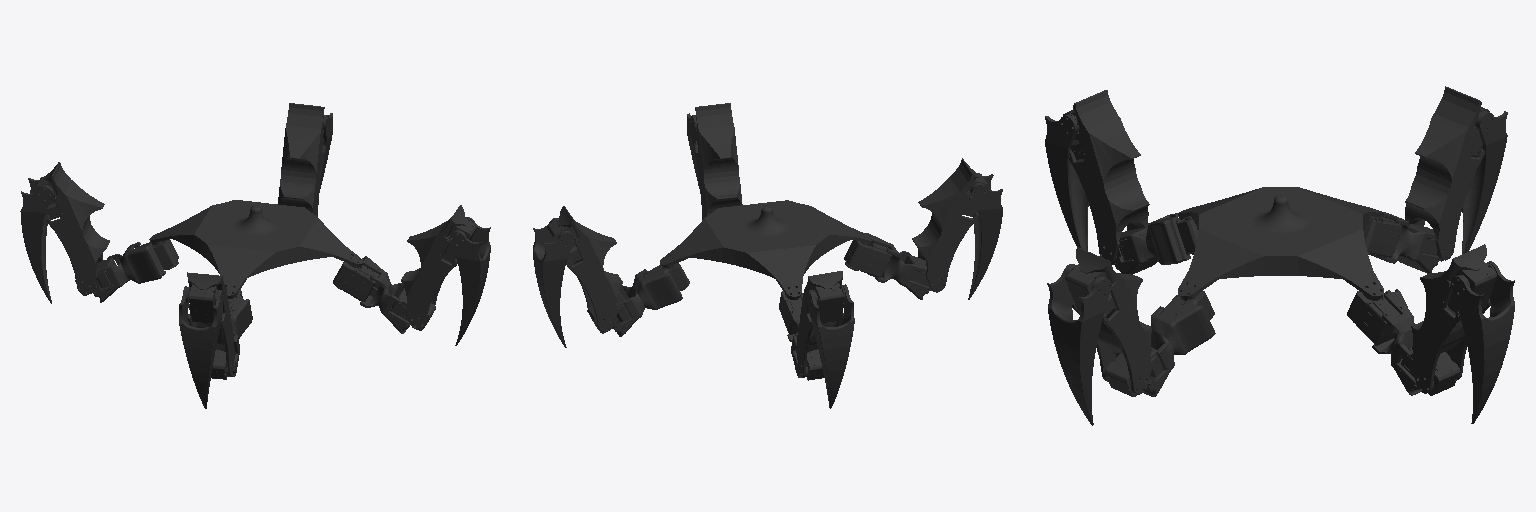
URDF robot description (Bot1):
<?xml version="1.0" ?>
<!-- Generated using onshape-to-robot -->
<!-- Onshape https://cad.onshape.com/documents/94b6ca4043d8b7dadf18169a/w/f21a9ff9413a5e9f1a679a27/e/2a732876cea761500fc01163 -->
<robot name="Bot1">
  <!-- Link part_1 -->
  <link name="part_1">
    <inertial>
      <origin xyz="0.0209601 0.0241499 0.0199273" rpy="0 0 0"/>
      <mass value="0.552084"/>
      <inertia ixx="0.0010312" ixy="-5.64816e-14" ixz="-3.97117e-12" iyy="0.0010312" iyz="-1.0241e-10" izz="0.00201256"/>
    </inertial>
    <!-- Part part_1 -->
    <visual>
      <origin xyz="-0.0290399 -0.0153501 0.0106225" rpy="1.04355e-07 -4.04659e-09 2.7083e-08"/>
      <geometry>
        <mesh filename="package://assets/part_1.stl"/>
      </geometry>
      <material name="part_1_material">
        <color rgba="0.25098 0.25098 0.25098 1"/>
      </material>
    </visual>
    <collision>
      <origin xyz="-0.0290399 -0.0153501 0.0106225" rpy="1.04355e-07 -4.04659e-09 2.7083e-08"/>
      <geometry>
        <mesh filename="package://assets/part_1.stl"/>
      </geometry>
    </collision>
  </link>
  <!-- Link part_1_2 -->
  <link name="part_1_2">
    <inertial>
      <origin xyz="0.0508216 0.00300079 -0.0201979" rpy="0 0 0"/>
      <mass value="0.139372"/>
      <inertia ixx="2.83594e-05" ixy="4.47367e-06" ixz="4.47438e-06" iyy="0.000186866" iyz="-9.10127e-08" izz="0.000186863"/>
    </inertial>
    <!-- Part part_1_2 -->
    <visual>
      <origin xyz="-0.595484 -1.2957 0.863499" rpy="3.14159 -7.06969e-15 1.02625e-16"/>
      <geometry>
        <mesh filename="package://assets/part_1__2.stl"/>
      </geometry>
      <material name="part_1_2_material">
        <color rgba="0.25098 0.25098 0.25098 1"/>
      </material>
    </visual>
    <collision>
      <origin xyz="-0.595484 -1.2957 0.863499" rpy="3.14159 -7.06969e-15 1.02625e-16"/>
      <geometry>
        <mesh filename="package://assets/part_1__2.stl"/>
      </geometry>
    </collision>
  </link>
  <!-- Link part_1_3 -->
  <link name="part_1_3">
    <inertial>
      <origin xyz="0.0786937 -0.0129147 0.0184042" rpy="0 0 0"/>
      <mass value="0.191635"/>
      <inertia ixx="5.4291e-05" ixy="-1.18698e-05" ixz="5.77448e-07" iyy="0.000252178" iyz="2.3663e-07" izz="0.000249914"/>
    </inertial>
    <!-- Part part_1_3 -->
    <visual>
      <origin xyz="-0.600864 0.882908 1.34578" rpy="3.14159 -6.17975e-17 -5.06224e-17"/>
      <geometry>
        <mesh filename="package://assets/part_1__3.stl"/>
      </geometry>
      <material name="part_1_3_material">
        <color rgba="0.25098 0.25098 0.25098 1"/>
      </material>
    </visual>
    <collision>
      <origin xyz="-0.600864 0.882908 1.34578" rpy="3.14159 -6.17975e-17 -5.06224e-17"/>
      <geometry>
        <mesh filename="package://assets/part_1__3.stl"/>
      </geometry>
    </collision>
  </link>
  <!-- Link part_1_4 -->
  <link name="part_1_4">
    <inertial>
      <origin xyz="-0.0423193 0.0357184 0.0189022" rpy="0 0 0"/>
      <mass value="0.0518909"/>
      <inertia ixx="2.02819e-05" ixy="1.67182e-05" ixz="-1.79305e-09" iyy="5.21248e-05" iyz="1.0553e-09" izz="5.27497e-05"/>
    </inertial>
    <!-- Part part_1_4 -->
    <visual>
      <origin xyz="-2.77556e-17 -1.38778e-16 -0.004" rpy="3.75243e-15 -7.93323e-17 -1.93732"/>
      <geometry>
        <mesh filename="package://assets/part_1__4.stl"/>
      </geometry>
      <material name="part_1_4_material">
        <color rgba="0.25098 0.25098 0.25098 1"/>
      </material>
    </visual>
    <collision>
      <origin xyz="-2.77556e-17 -1.38778e-16 -0.004" rpy="3.75243e-15 -7.93323e-17 -1.93732"/>
      <geometry>
        <mesh filename="package://assets/part_1__4.stl"/>
      </geometry>
    </collision>
  </link>
  <!-- Joint from part_1_3 to part_1_4 -->
  <joint name="kn_yaw_1" type="revolute">
    <origin xyz="0.1253 9.71445e-16 -0.0007" rpy="1.08495e-16 -6.17975e-17 -5.06224e-17"/>
    <parent link="part_1_3"/>
    <child link="part_1_4"/>
    <axis xyz="0 0 1"/>
    <limit effort="10" velocity="10" lower="-1.8675" upper="0"/>
  </joint>
  <!-- Joint from part_1_2 to part_1_3 -->
  <joint name="sh_yaw_1" type="revolute">
    <origin xyz="0.1016 -0.0172 -0.0172" rpy="1.5708 -1.52128 3.14159"/>
    <parent link="part_1_2"/>
    <child link="part_1_3"/>
    <axis xyz="0 0 1"/>
    <limit effort="10" velocity="10" lower="-0.0202957" upper="2.99912"/>
  </joint>
  <!-- Joint from part_1 to part_1_2 -->
  <joint name="sh_roll_1" type="revolute">
    <origin xyz="-0.063914 -0.0607244 -0.00112728" rpy="0.0113433 0.459272 -2.33061"/>
    <parent link="part_1"/>
    <child link="part_1_2"/>
    <axis xyz="0 0 1"/>
    <limit effort="10" velocity="10" lower="-2.22431" upper="2.10411"/>
  </joint>
  <!-- Link part_1_5 -->
  <link name="part_1_5">
    <inertial>
      <origin xyz="0.0508216 0.00300079 -0.0201979" rpy="0 0 0"/>
      <mass value="0.139372"/>
      <inertia ixx="2.83594e-05" ixy="4.47367e-06" ixz="4.47438e-06" iyy="0.000186866" iyz="-9.10127e-08" izz="0.000186863"/>
    </inertial>
    <!-- Part part_1_5 -->
    <visual>
      <origin xyz="-0.595484 -1.2957 0.863499" rpy="3.14159 -6.99933e-15 -3.33598e-17"/>
      <geometry>
        <mesh filename="package://assets/part_1__2.stl"/>
      </geometry>
      <material name="part_1_5_material">
        <color rgba="0.25098 0.25098 0.25098 1"/>
      </material>
    </visual>
    <collision>
      <origin xyz="-0.595484 -1.2957 0.863499" rpy="3.14159 -6.99933e-15 -3.33598e-17"/>
      <geometry>
        <mesh filename="package://assets/part_1__2.stl"/>
      </geometry>
    </collision>
  </link>
  <!-- Link part_1_6 -->
  <link name="part_1_6">
    <inertial>
      <origin xyz="0.0786937 -0.0129147 0.0184042" rpy="0 0 0"/>
      <mass value="0.191635"/>
      <inertia ixx="5.4291e-05" ixy="-1.18698e-05" ixz="5.77448e-07" iyy="0.000252178" iyz="2.3663e-07" izz="0.000249914"/>
    </inertial>
    <!-- Part part_1_6 -->
    <visual>
      <origin xyz="-0.600864 0.882908 1.34578" rpy="3.14159 9.14324e-18 -6.1058e-18"/>
      <geometry>
        <mesh filename="package://assets/part_1__3.stl"/>
      </geometry>
      <material name="part_1_6_material">
        <color rgba="0.25098 0.25098 0.25098 1"/>
      </material>
    </visual>
    <collision>
      <origin xyz="-0.600864 0.882908 1.34578" rpy="3.14159 9.14324e-18 -6.1058e-18"/>
      <geometry>
        <mesh filename="package://assets/part_1__3.stl"/>
      </geometry>
    </collision>
  </link>
  <!-- Link part_1_7 -->
  <link name="part_1_7">
    <inertial>
      <origin xyz="-0.0181801 -0.0523088 0.0189022" rpy="0 0 0"/>
      <mass value="0.0518909"/>
      <inertia ixx="5.9222e-05" ixy="-1.77049e-06" ixz="-3.42637e-10" iyy="1.31847e-05" iyz="-2.05214e-09" izz="5.27497e-05"/>
    </inertial>
    <!-- Part part_1_7 -->
    <visual>
      <origin xyz="0 0 -0.004" rpy="1.03918e-18 -3.41966e-17 -8.52784e-18"/>
      <geometry>
        <mesh filename="package://assets/part_1__4.stl"/>
      </geometry>
      <material name="part_1_7_material">
        <color rgba="0.25098 0.25098 0.25098 1"/>
      </material>
    </visual>
    <collision>
      <origin xyz="0 0 -0.004" rpy="1.03918e-18 -3.41966e-17 -8.52784e-18"/>
      <geometry>
        <mesh filename="package://assets/part_1__4.stl"/>
      </geometry>
    </collision>
  </link>
  <!-- Joint from part_1_6 to part_1_7 -->
  <joint name="kn_yaw_2" type="revolute">
    <origin xyz="0.1253 9.99201e-16 -0.0007" rpy="-4.71256e-14 -4.49153e-14 -1.92354"/>
    <parent link="part_1_6"/>
    <child link="part_1_7"/>
    <axis xyz="0 0 1"/>
    <limit effort="10" velocity="10" lower="-1.89874" upper="0.00367303"/>
  </joint>
  <!-- Joint from part_1_5 to part_1_6 -->
  <joint name="sh_yaw_2" type="revolute">
    <origin xyz="0.1016 -0.0172 -0.0172" rpy="1.5708 -1.5189 3.14159"/>
    <parent link="part_1_5"/>
    <child link="part_1_6"/>
    <axis xyz="0 0 1"/>
    <limit effort="10" velocity="10" lower="-0.00046306" upper="3.01728"/>
  </joint>
  <!-- Joint from part_1 to part_1_5 -->
  <joint name="sh_roll_2" type="revolute">
    <origin xyz="0.105834 -0.0607243 -0.00112728" rpy="-0.00584817 0.459368 -0.798588"/>
    <parent link="part_1"/>
    <child link="part_1_5"/>
    <axis xyz="0 0 1"/>
    <limit effort="10" velocity="10" lower="-2.1763" upper="2.12593"/>
  </joint>
  <!-- Link part_1_8 -->
  <link name="part_1_8">
    <inertial>
      <origin xyz="0.030927 0.0404396 -0.0201979" rpy="0 0 0"/>
      <mass value="0.139372"/>
      <inertia ixx="0.000114801" ixy="-7.90532e-05" ixz="2.99178e-06" iyy="0.000100424" iyz="3.3283e-06" izz="0.000186863"/>
    </inertial>
    <!-- Part part_1_8 -->
    <visual>
      <origin xyz="0.592033 -1.29728 0.863499" rpy="3.14159 -7.1865e-15 0.858932"/>
      <geometry>
        <mesh filename="package://assets/part_1__2.stl"/>
      </geometry>
      <material name="part_1_8_material">
        <color rgba="0.25098 0.25098 0.25098 1"/>
      </material>
    </visual>
    <collision>
      <origin xyz="0.592033 -1.29728 0.863499" rpy="3.14159 -7.1865e-15 0.858932"/>
      <geometry>
        <mesh filename="package://assets/part_1__2.stl"/>
      </geometry>
    </collision>
  </link>
  <!-- Link part_1_9 -->
  <link name="part_1_9">
    <inertial>
      <origin xyz="-0.0182232 -0.0776363 0.0184042" rpy="0 0 0"/>
      <mass value="0.191635"/>
      <inertia ixx="0.000252874" ixy="-1.63223e-06" ixz="1.96914e-07" iyy="5.35949e-05" iyz="-5.9217e-07" izz="0.000249914"/>
    </inertial>
    <!-- Part part_1_9 -->
    <visual>
      <origin xyz="0.921634 0.539587 1.34578" rpy="3.14159 3.44615e-15 -1.63868"/>
      <geometry>
        <mesh filename="package://assets/part_1__3.stl"/>
      </geometry>
      <material name="part_1_9_material">
        <color rgba="0.25098 0.25098 0.25098 1"/>
      </material>
    </visual>
    <collision>
      <origin xyz="0.921634 0.539587 1.34578" rpy="3.14159 3.44615e-15 -1.63868"/>
      <geometry>
        <mesh filename="package://assets/part_1__3.stl"/>
      </geometry>
    </collision>
  </link>
  <!-- Link part_1_10 -->
  <link name="part_1_10">
    <inertial>
      <origin xyz="-0.0181801 -0.0523088 0.0189022" rpy="0 0 0"/>
      <mass value="0.0518909"/>
      <inertia ixx="5.9222e-05" ixy="-1.77049e-06" ixz="-3.42637e-10" iyy="1.31847e-05" iyz="-2.05214e-09" izz="5.27497e-05"/>
    </inertial>
    <!-- Part part_1_10 -->
    <visual>
      <origin xyz="0 -1.38778e-17 -0.004" rpy="-1.64693e-18 -3.3924e-17 -4.7432e-18"/>
      <geometry>
        <mesh filename="package://assets/part_1__4.stl"/>
      </geometry>
      <material name="part_1_10_material">
        <color rgba="0.25098 0.25098 0.25098 1"/>
      </material>
    </visual>
    <collision>
      <origin xyz="0 -1.38778e-17 -0.004" rpy="-1.64693e-18 -3.3924e-17 -4.7432e-18"/>
      <geometry>
        <mesh filename="package://assets/part_1__4.stl"/>
      </geometry>
    </collision>
  </link>
  <!-- Joint from part_1_9 to part_1_10 -->
  <joint name="kn_yaw_3" type="revolute">
    <origin xyz="-0.00849973 -0.125011 -0.0007" rpy="-7.507e-16 -4.79564e-15 2.71628"/>
    <parent link="part_1_9"/>
    <child link="part_1_10"/>
    <axis xyz="0 0 1"/>
    <limit effort="10" velocity="10" lower="-1.86497" upper="0.0123759"/>
  </joint>
  <!-- Joint from part_1_8 to part_1_9 -->
  <joint name="sh_yaw_3" type="revolute">
    <origin xyz="0.0793927 0.0656901 -0.0172" rpy="-1.5708 -7.1865e-15 0.858932"/>
    <parent link="part_1_8"/>
    <child link="part_1_9"/>
    <axis xyz="0 0 1"/>
    <limit effort="10" velocity="10" lower="-0.00192597" upper="3.00877"/>
  </joint>
  <!-- Joint from part_1 to part_1_8 -->
  <joint name="sh_roll_3" type="revolute">
    <origin xyz="0.105834 0.109024 -0.00112726" rpy="-0.352958 0.300455 -0.108596"/>
    <parent link="part_1"/>
    <child link="part_1_8"/>
    <axis xyz="0 0 1"/>
    <limit effort="10" velocity="10" lower="-2.22029" upper="2.10813"/>
  </joint>
  <!-- Link part_1_11 -->
  <link name="part_1_11">
    <inertial>
      <origin xyz="0.0508216 0.00300079 -0.0201979" rpy="0 0 0"/>
      <mass value="0.139372"/>
      <inertia ixx="2.83594e-05" ixy="4.47367e-06" ixz="4.47438e-06" iyy="0.000186866" iyz="-9.10127e-08" izz="0.000186863"/>
    </inertial>
    <!-- Part part_1_11 -->
    <visual>
      <origin xyz="-0.595484 -1.2957 0.863499" rpy="3.14159 -6.98532e-15 -1.8042e-17"/>
      <geometry>
        <mesh filename="package://assets/part_1__2.stl"/>
      </geometry>
      <material name="part_1_11_material">
        <color rgba="0.25098 0.25098 0.25098 1"/>
      </material>
    </visual>
    <collision>
      <origin xyz="-0.595484 -1.2957 0.863499" rpy="3.14159 -6.98532e-15 -1.8042e-17"/>
      <geometry>
        <mesh filename="package://assets/part_1__2.stl"/>
      </geometry>
    </collision>
  </link>
  <!-- Link part_1_12 -->
  <link name="part_1_12">
    <inertial>
      <origin xyz="-0.0174934 -0.077804 0.0184042" rpy="0 0 0"/>
      <mass value="0.191635"/>
      <inertia ixx="0.000252887" ixy="2.38998e-07" ixz="2.02465e-07" iyy="5.35818e-05" iyz="-5.90295e-07" izz="0.000249914"/>
    </inertial>
    <!-- Part part_1_12 -->
    <visual>
      <origin xyz="0.916527 0.548217 1.34578" rpy="3.14159 2.43975e-14 -1.62929"/>
      <geometry>
        <mesh filename="package://assets/part_1__3.stl"/>
      </geometry>
      <material name="part_1_12_material">
        <color rgba="0.25098 0.25098 0.25098 1"/>
      </material>
    </visual>
    <collision>
      <origin xyz="0.916527 0.548217 1.34578" rpy="3.14159 2.43975e-14 -1.62929"/>
      <geometry>
        <mesh filename="package://assets/part_1__3.stl"/>
      </geometry>
    </collision>
  </link>
  <!-- Link part_1_13 -->
  <link name="part_1_13">
    <inertial>
      <origin xyz="-0.0422016 0.0358574 0.0189022" rpy="0 0 0"/>
      <mass value="0.0518909"/>
      <inertia ixx="2.03922e-05" ixy="1.68226e-05" ixz="-1.78957e-09" iyy="5.20145e-05" iyz="1.06119e-09" izz="5.27497e-05"/>
    </inertial>
    <!-- Part part_1_13 -->
    <visual>
      <origin xyz="2.77556e-17 -1.66533e-16 -0.004" rpy="5.33287e-15 1.38032e-14 -1.9406"/>
      <geometry>
        <mesh filename="package://assets/part_1__4.stl"/>
      </geometry>
      <material name="part_1_13_material">
        <color rgba="0.25098 0.25098 0.25098 1"/>
      </material>
    </visual>
    <collision>
      <origin xyz="2.77556e-17 -1.66533e-16 -0.004" rpy="5.33287e-15 1.38032e-14 -1.9406"/>
      <geometry>
        <mesh filename="package://assets/part_1__4.stl"/>
      </geometry>
    </collision>
  </link>
  <!-- Joint from part_1_12 to part_1_13 -->
  <joint name="kn_yaw_4" type="revolute">
    <origin xyz="-0.00732563 -0.125086 -0.0007" rpy="-3.81621e-14 2.43975e-14 -1.62929"/>
    <parent link="part_1_12"/>
    <child link="part_1_13"/>
    <axis xyz="0 0 1"/>
    <limit effort="10" velocity="10" lower="-1.84416" upper="0.0207427"/>
  </joint>
  <!-- Joint from part_1_11 to part_1_12 -->
  <joint name="sh_yaw_4" type="revolute">
    <origin xyz="0.1016 -0.0172 -0.0172" rpy="-1.5708 -6.98532e-15 -1.8042e-17"/>
    <parent link="part_1_11"/>
    <child link="part_1_12"/>
    <axis xyz="0 0 1"/>
    <limit effort="10" velocity="10" lower="-0.00288512" upper="3.0168"/>
  </joint>
  <!-- Joint from part_1 to part_1_11 -->
  <joint name="sh_roll_4" type="revolute">
    <origin xyz="-0.0639141 0.109024 -0.00112726" rpy="0.0311157 0.458422 2.42641"/>
    <parent link="part_1"/>
    <child link="part_1_11"/>
    <axis xyz="0 0 1"/>
    <limit effort="10" velocity="10" lower="-2.2539" upper="2.0686"/>
  </joint>
</robot>

--- What the picture shows (computed from the rendered views, not written in the file) ---
3 views of the same robot in one strip: view 1: azimuth 30°, elevation 25°; view 2: azimuth 150°, elevation 25°; view 3: azimuth 270°, elevation 25° (orthographic).
Robot: Bot1 — 13 links, 12 joints (12 revolute); root link part_1; default pose: every joint at zero.
Links seen in each view (by area): view 1: part_1, part_1_12, part_1_9, part_1_6, part_1_5, part_1_11, part_1_7, part_1_4, part_1_3, part_1_13, part_1_2; view 2: part_1, part_1_3, part_1_6, part_1_9, part_1_8, part_1_2, part_1_10, part_1_13, part_1_12, part_1_4, part_1_11; view 3: part_1, part_1_3, part_1_12, part_1_6, part_1_9, part_1_10, part_1_7, part_1_5, part_1_8, part_1_2, part_1_4, part_1_11 (+1 smaller).
Boxes of the visible links, x1,y1,x2,y2 form: part_1: (149,200,362,297); part_1_12: (35,162,109,294); part_1_9: (278,103,325,216); part_1_6: (401,205,476,329); part_1_5: (333,256,435,333); part_1_11: (75,239,178,302); part_1_7: (450,217,490,345); part_1_4: (179,286,223,408); part_1_3: (186,272,234,376); part_1_13: (20,173,52,303); part_1_2: (211,289,252,379); part_1: (660,200,873,298); part_1_3: (912,158,988,291); part_1_6: (694,103,742,219); part_1_9: (547,206,622,331); part_1_8: (587,263,689,336); part_1_2: (844,233,943,299); part_1_10: (533,218,574,347); part_1_13: (807,284,854,408); part_1_12: (797,271,845,377); part_1_4: (968,169,1002,299); part_1_11: (779,291,823,380); part_1: (1178,187,1383,298); part_1_3: (1063,90,1149,262); part_1_12: (1405,86,1489,260); part_1_6: (1065,247,1152,394); part_1_9: (1411,244,1496,393); part_1_10: (1451,261,1514,423); part_1_7: (1047,264,1111,425); part_1_5: (1104,291,1215,396); part_1_8: (1347,289,1460,395); part_1_2: (1111,213,1197,274); part_1_4: (1045,115,1088,250); part_1_11: (1364,211,1443,273).
Bounding box of the posed robot: 0.4364 × 0.435 × 0.176 m (x, y, z).
13 mesh visuals loaded from 4 distinct referenced files (4 binary STL).
